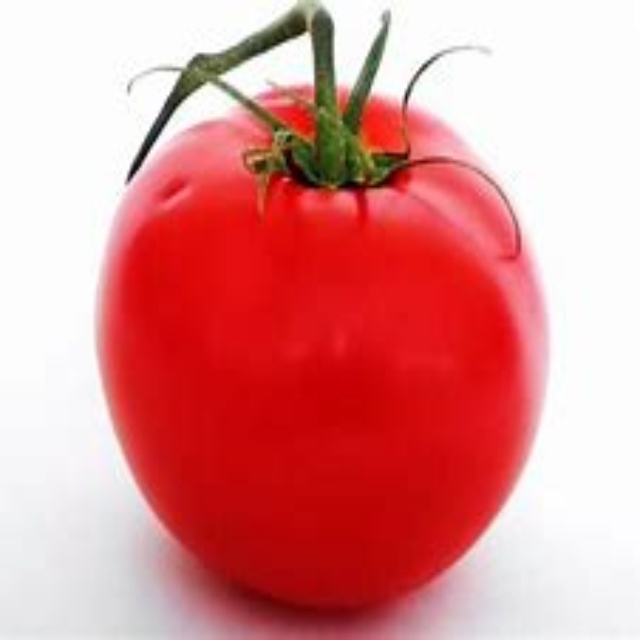tomato: (91, 74, 564, 618)
